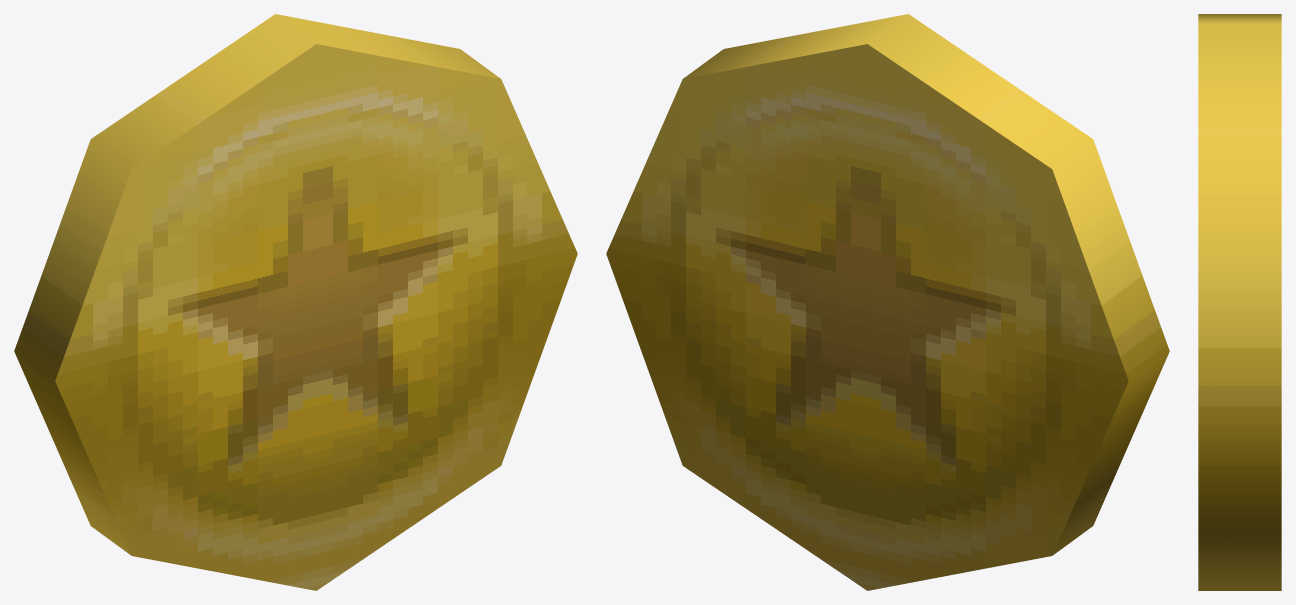
Rendered from arc0_5.glb.
The picture shows the model from 3 angles, left to right: view 1: azimuth 30°, elevation 25°; view 2: azimuth 150°, elevation 25°; view 3: azimuth 270°, elevation 25°; orthographic projection.
Parts seen in each view (by area): view 1: arc0_5; view 2: arc0_5; view 3: arc0_5.
Boxes of the visible parts, x1,y1,x2,y2 form: arc0_5: (14, 14, 577, 590); arc0_5: (606, 14, 1169, 590); arc0_5: (1198, 14, 1281, 590).
Size of the model in its own units: 11.89 by 11.89 by 1.62.
Materials: 1 (1 with a texture image).
